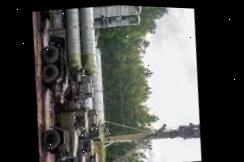truck: (20, 5, 109, 162), (43, 133, 95, 162), (55, 147, 99, 162)
